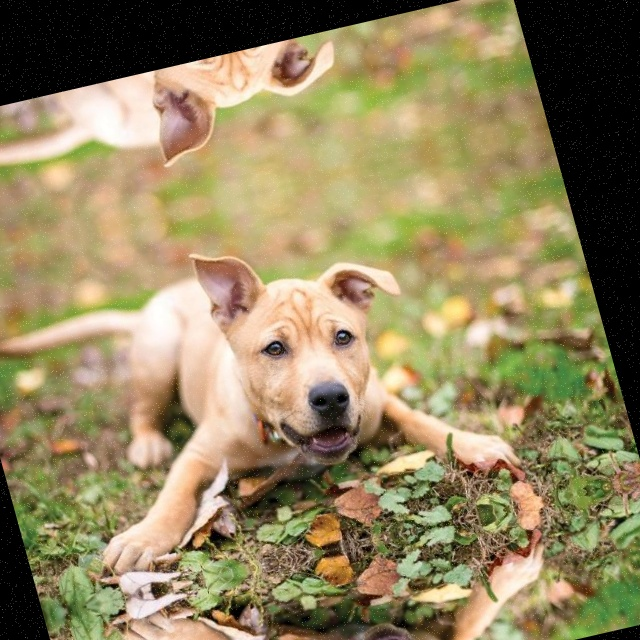dog: (0, 196, 528, 600), (0, 15, 422, 214), (63, 516, 569, 640)
